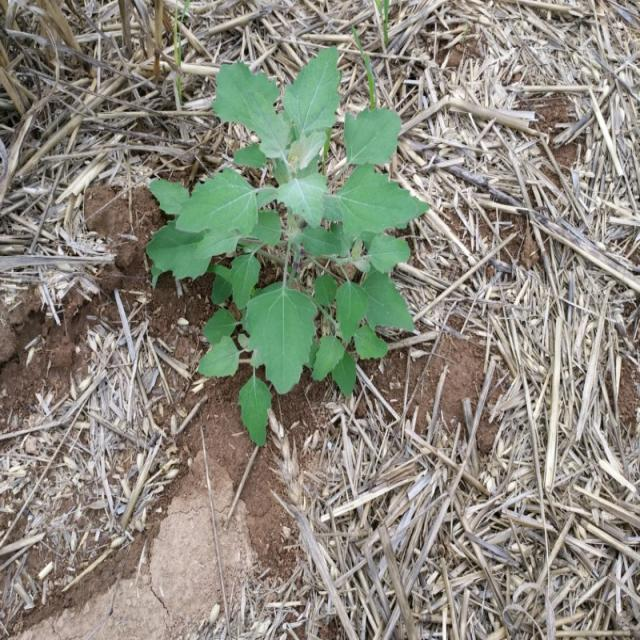ca: (148, 48, 424, 446)
